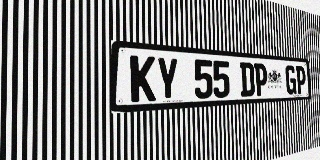5: (194, 59, 213, 99), (213, 60, 230, 98)
D: (240, 62, 255, 97)
G: (285, 65, 296, 95)
K: (130, 55, 156, 102)
P: (254, 63, 268, 96), (296, 66, 306, 94)
Y: (156, 57, 179, 101)
